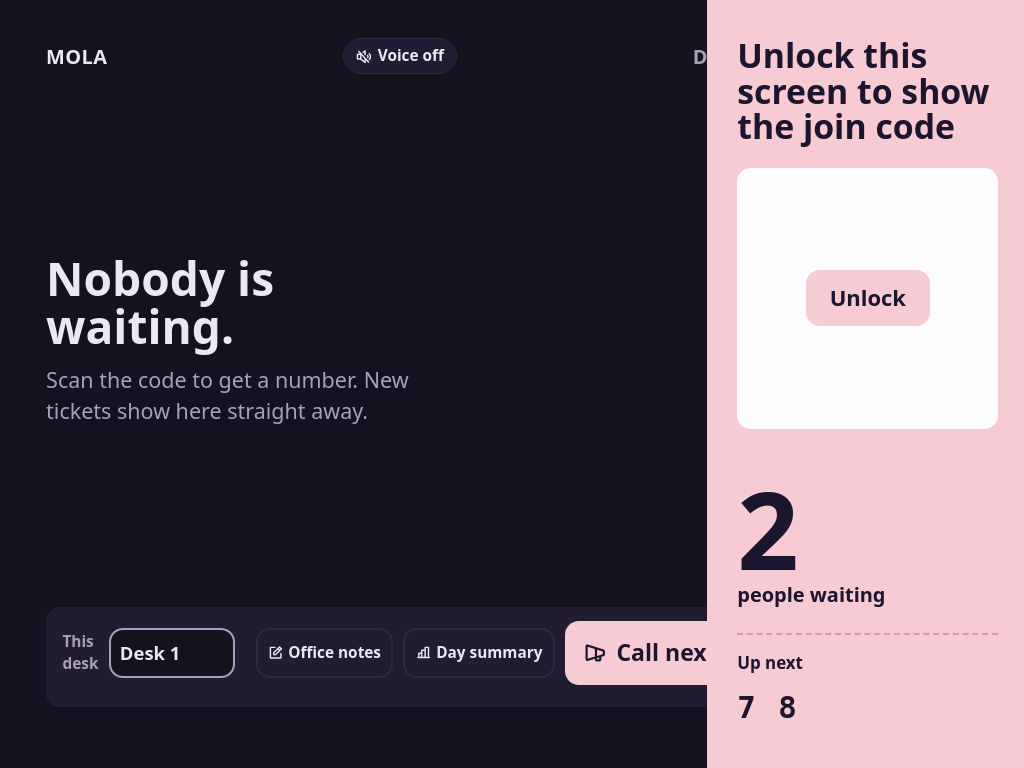
Scenario: staff controls › forgets a wrong key and asks again with the error
Later steps or results of the test are not shown.
Click the button "Call next". click: (650, 653)
box: [565, 621, 735, 685]
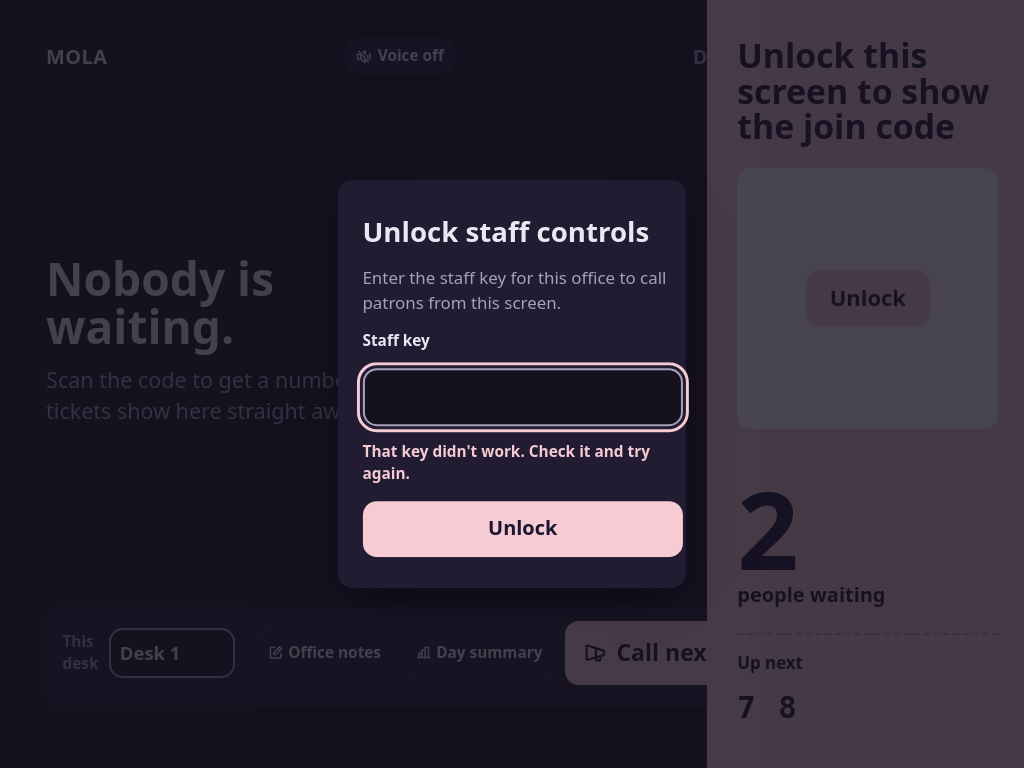
Expected: the text "That key didn't work. Check it and try again." is shown, [362, 441, 683, 486]
